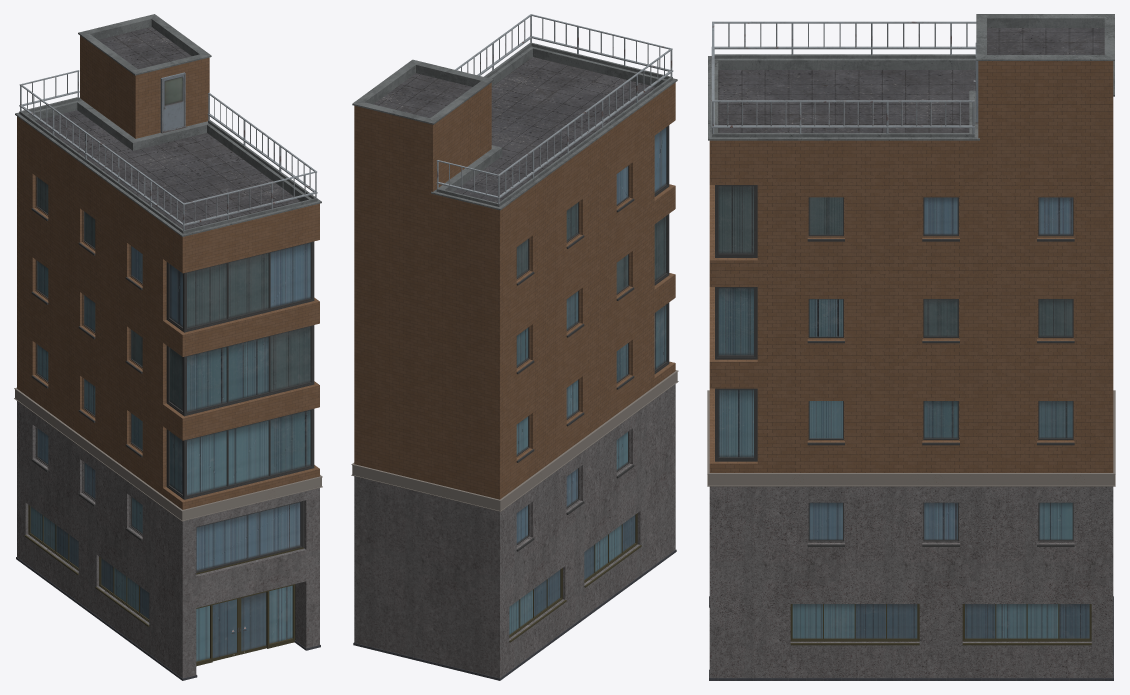
The model's file is jctBld12_6C.fbx.
3 views of the same model, side by side, from view 1: azimuth 30°, elevation 25°; view 2: azimuth 150°, elevation 25°; view 3: azimuth 270°, elevation 25° (orthographic). The views are drawn at different scales.
Parts seen in each view (by area): view 1: jctBld12_6C_LOD0; view 2: jctBld12_6C_LOD0; view 3: jctBld12_6C_LOD0.
Boxes of the visible parts, x1,y1,x2,y2 form: jctBld12_6C_LOD0: [14, 14, 322, 680]; jctBld12_6C_LOD0: [351, 14, 678, 680]; jctBld12_6C_LOD0: [707, 14, 1115, 680].
Bounding box in the file's own units: 564 × 1955 × 1164.
